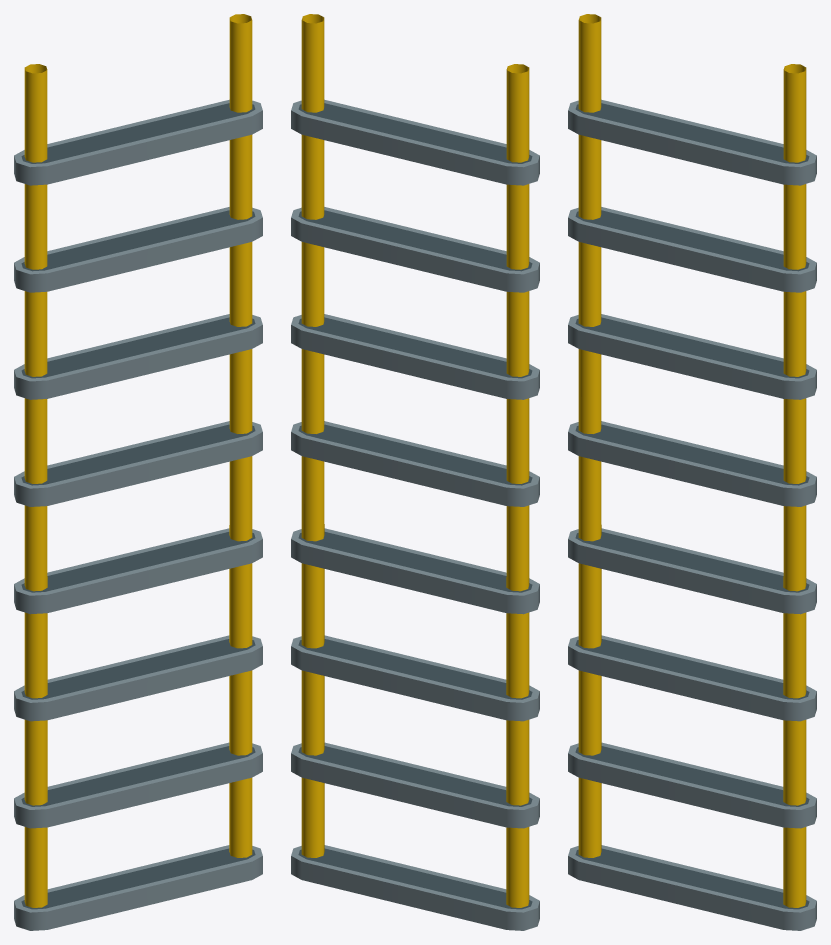
File: Ladder_003.glb
The picture shows the model from 3 angles, left to right: view 1: azimuth 30°, elevation 25°; view 2: azimuth 150°, elevation 25°; view 3: azimuth 330°, elevation 25°; orthographic projection.
Parts seen in each view (by area): view 1: Ladder_003; view 2: Ladder_003; view 3: Ladder_003.
Part boxes in pixels (x1=…): Ladder_003: x1=14, y1=14, x2=262, y2=930; Ladder_003: x1=291, y1=14, x2=539, y2=930; Ladder_003: x1=568, y1=14, x2=816, y2=930.
Bounding box in the file's own units: 1.19 × 3.98 × 0.1929.
1 material, 1 textured.
